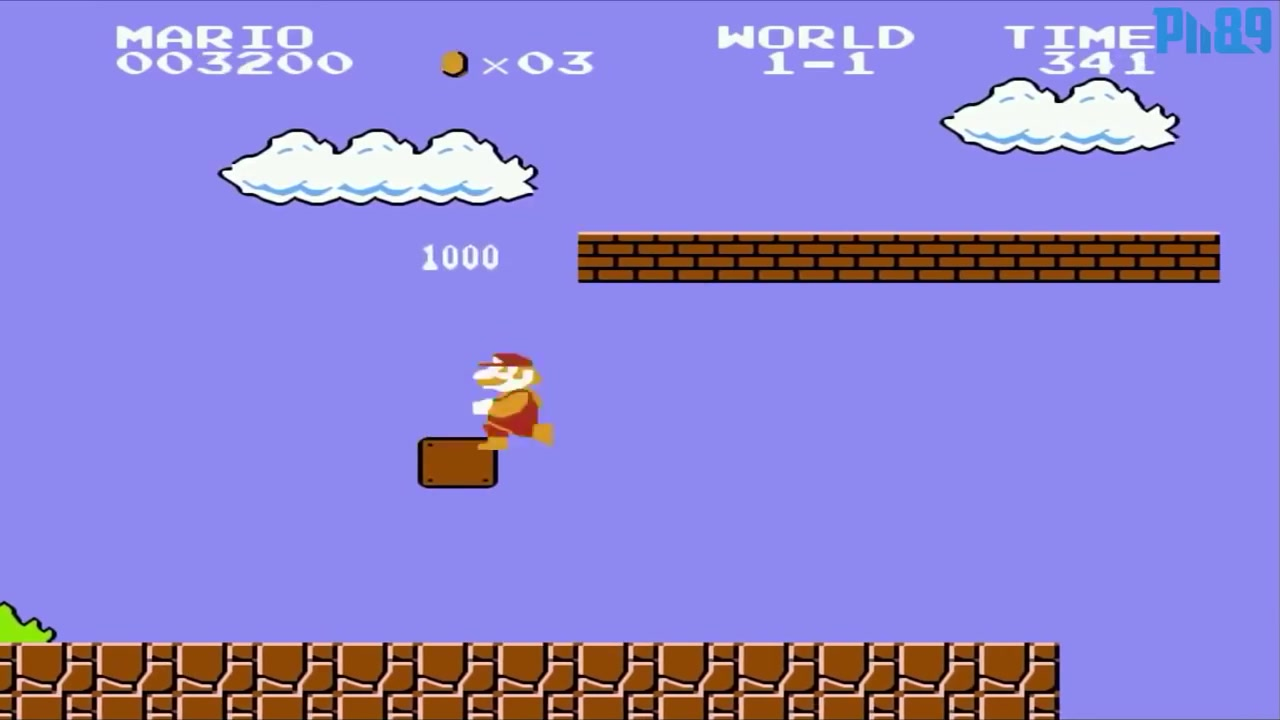mario: (466, 348, 556, 459)
